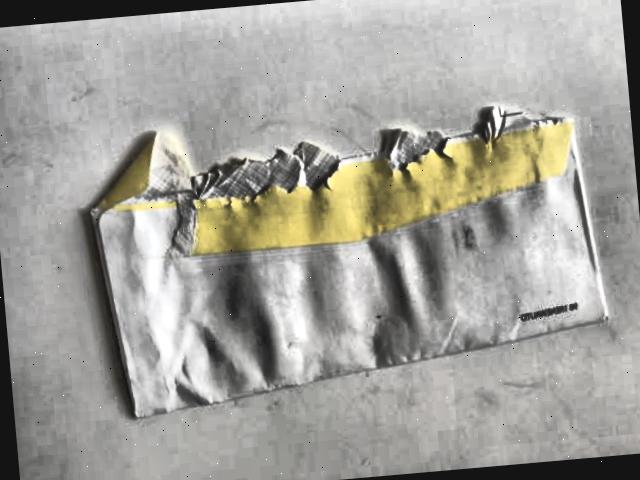Paper: (80, 85, 620, 428)
